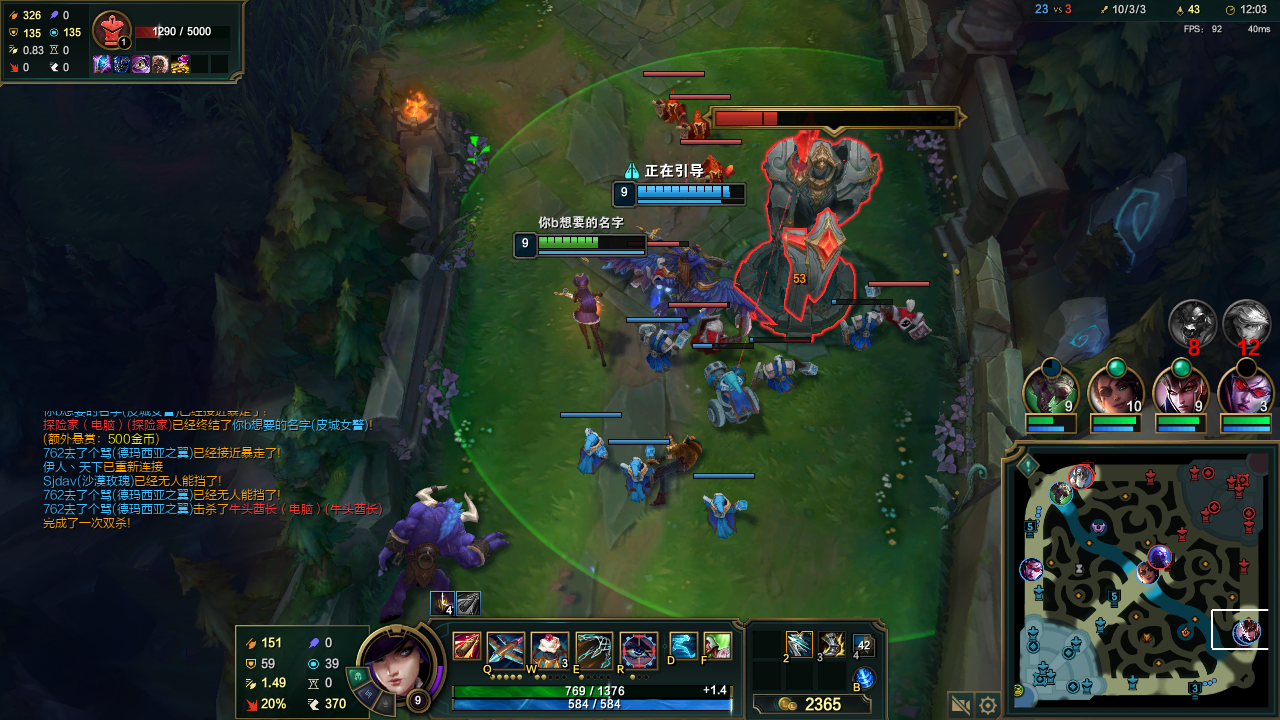DFFYT: (715, 112, 883, 332)
DFXB: (890, 302, 933, 347), (693, 315, 731, 350), (690, 159, 732, 186), (646, 263, 681, 293), (685, 111, 712, 146), (653, 90, 682, 117)
KF: (788, 632, 808, 656)
WFXB: (637, 325, 694, 371), (702, 481, 740, 533), (704, 370, 744, 419), (839, 309, 881, 353), (573, 423, 612, 469), (620, 453, 657, 492), (760, 354, 798, 390)
